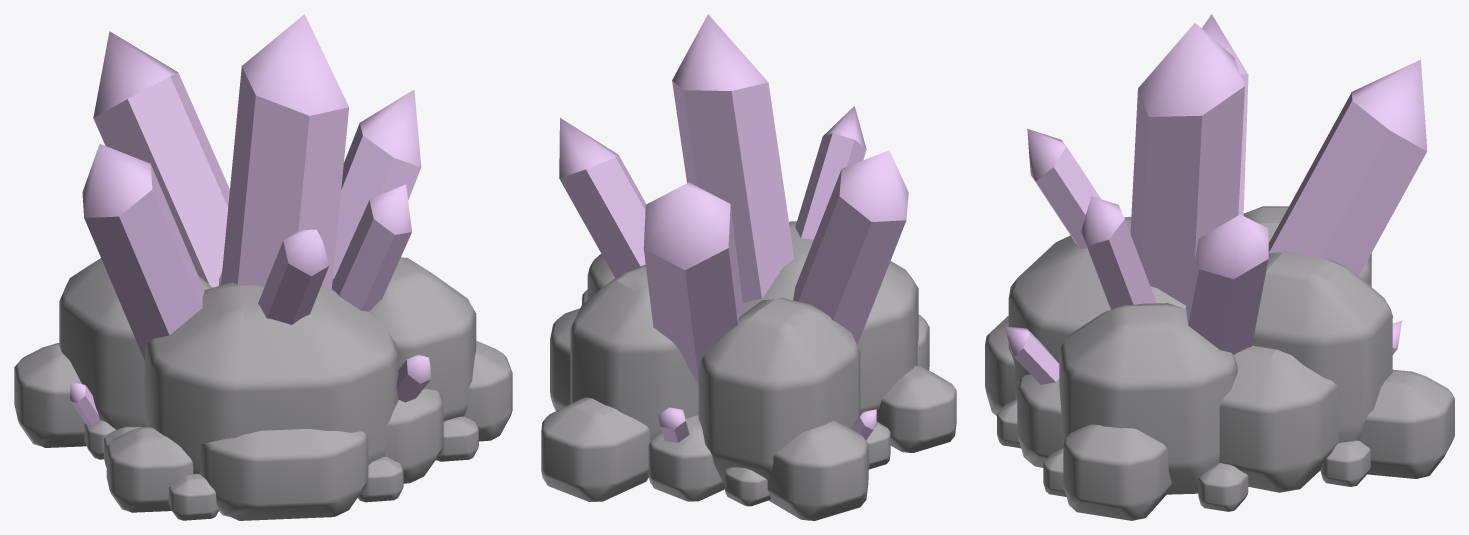
Rendered from roze kristallen.fbx.
The picture shows the model from 3 angles, left to right: view 1: azimuth 30°, elevation 25°; view 2: azimuth 150°, elevation 25°; view 3: azimuth 270°, elevation 25°; orthographic projection. The views are drawn at different scales.
Visible parts, largest first — view 1: polySurface91; view 2: polySurface91; view 3: polySurface91.
Boxes of the visible parts, x1=… form: polySurface91: x1=14, y1=14, x2=512, y2=520; polySurface91: x1=541, y1=14, x2=956, y2=520; polySurface91: x1=985, y1=14, x2=1454, y2=520.
Size of the model in its own units: 1.3 by 1.37 by 1.34.
